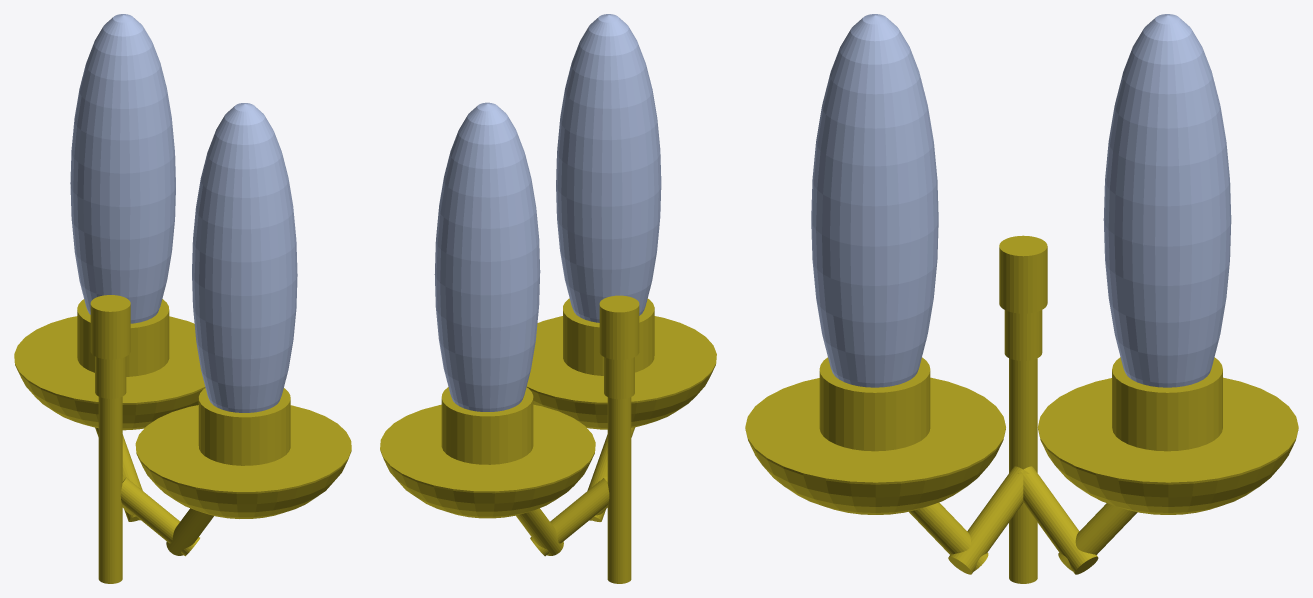
The model's file is walllight.fbx.
3 views of the same model, side by side, from view 1: azimuth 30°, elevation 25°; view 2: azimuth 150°, elevation 25°; view 3: azimuth 270°, elevation 25° (orthographic). The views are drawn at different scales.
Parts seen in each view (by area): view 1: Sphere.039, Sphere.022, Sphere.038, Sphere.019, Cylinder.064, Cylinder.062, Cylinder.063, Cylinder.060, Cylinder.059, Cylinder.058, Cylinder.061; view 2: Sphere.022, Sphere.039, Sphere.019, Sphere.038, Cylinder.063, Cylinder.062, Cylinder.064, Cylinder.060, Cylinder.059, Cylinder.058, Cylinder.061; view 3: Sphere.039, Sphere.022, Sphere.038, Sphere.019, Cylinder.064, Cylinder.063, Cylinder.059, Cylinder.062, Cylinder.060, Cylinder.058, Cylinder.061.
Part boxes in pixels (x1,y1,x2,y2): Sphere.039: [192, 103, 297, 412]; Sphere.022: [70, 14, 175, 323]; Sphere.038: [135, 405, 351, 518]; Sphere.019: [14, 316, 205, 430]; Cylinder.064: [198, 388, 290, 465]; Cylinder.062: [98, 396, 122, 583]; Cylinder.063: [77, 299, 169, 376]; Cylinder.060: [90, 295, 130, 359]; Cylinder.059: [120, 476, 199, 556]; Cylinder.058: [95, 427, 213, 555]; Cylinder.061: [95, 356, 126, 398]; Sphere.022: [434, 102, 540, 411]; Sphere.039: [556, 14, 661, 322]; Sphere.019: [380, 404, 595, 518]; Sphere.038: [526, 316, 716, 429]; Cylinder.063: [441, 387, 533, 464]; Cylinder.062: [607, 397, 631, 583]; Cylinder.064: [563, 298, 654, 375]; Cylinder.060: [599, 295, 639, 359]; Cylinder.059: [530, 476, 609, 556]; Cylinder.058: [516, 427, 634, 555]; Cylinder.061: [604, 357, 634, 399]; Sphere.039: [811, 14, 938, 387]; Sphere.022: [1103, 14, 1231, 387]; Sphere.038: [745, 377, 1005, 514]; Sphere.019: [1038, 377, 1298, 514]; Cylinder.064: [819, 357, 930, 451]; Cylinder.063: [1112, 357, 1222, 451]; Cylinder.059: [948, 466, 1098, 574]; Cylinder.062: [1009, 358, 1037, 583]; Cylinder.060: [999, 235, 1047, 313]; Cylinder.058: [909, 502, 1137, 571]; Cylinder.061: [1004, 310, 1042, 360].
Size of the model in its own units: 197 by 503 by 417.
